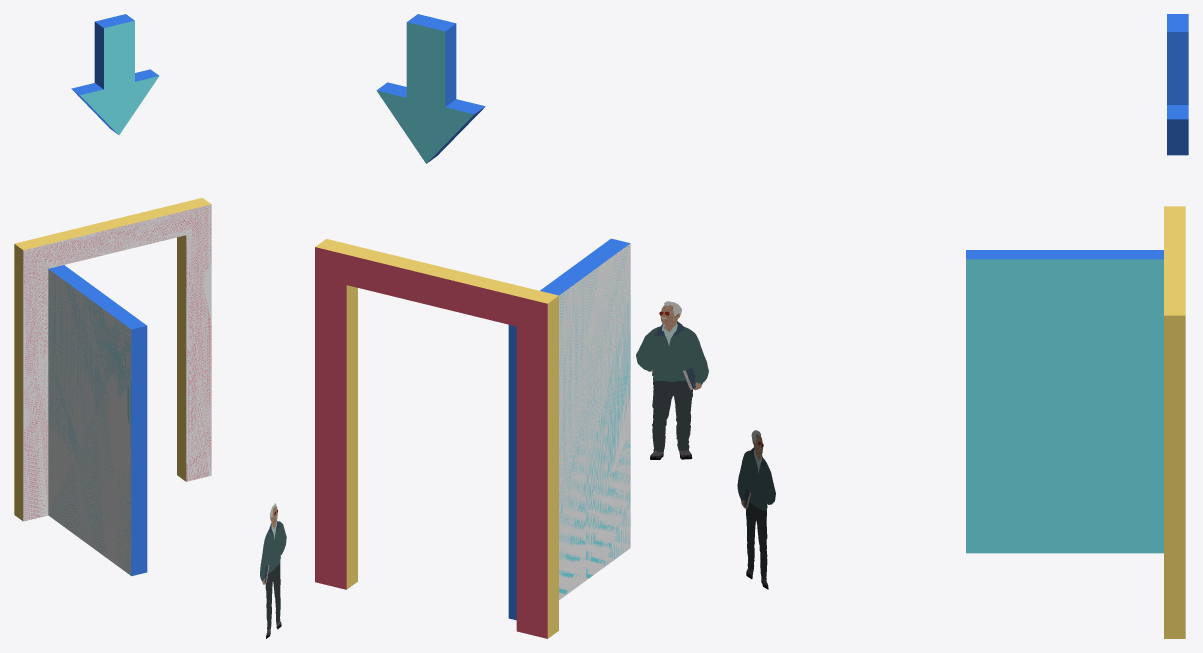
Rendered from Door.dae.
3 renders of one model, left to right at view 1: azimuth 30°, elevation 25°; view 2: azimuth 150°, elevation 25°; view 3: azimuth 270°, elevation 25°, orthographic. The views are drawn at different scales.
Parts seen in each view (by area): view 1: SketchUp (×6), Steve (×2); view 2: SketchUp (×6), Steve (×2); view 3: SketchUp (×4), Steve (×2).
Part boxes in pixels (x1,y1,x2,y2): SketchUp (×6): (14, 14, 211, 576); Steve (×2): (260, 521, 286, 630); SketchUp (×6): (315, 14, 630, 638); Steve (×2): (636, 326, 708, 451); SketchUp (×4): (966, 14, 1188, 638); Steve (×2): (737, 450, 775, 579).
Bounding box in the file's own units: 102 × 178 × 248.
